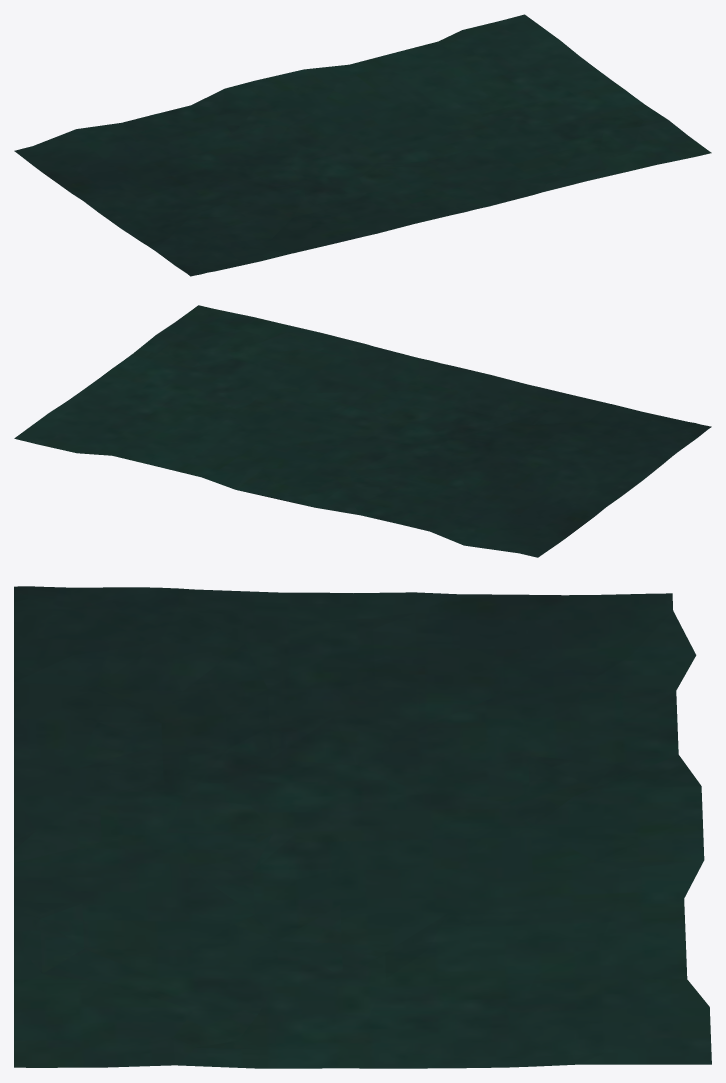
The picture shows the model from 3 angles, top to bottom: view 1: azimuth 30°, elevation 25°; view 2: azimuth 150°, elevation 25°; view 3: azimuth 270°, elevation 25°; orthographic projection. The views are drawn at different scales.
Bounding box in the file's own units: 52.22 × 0.5919 × 32.49.
2 materials, 2 textured.
